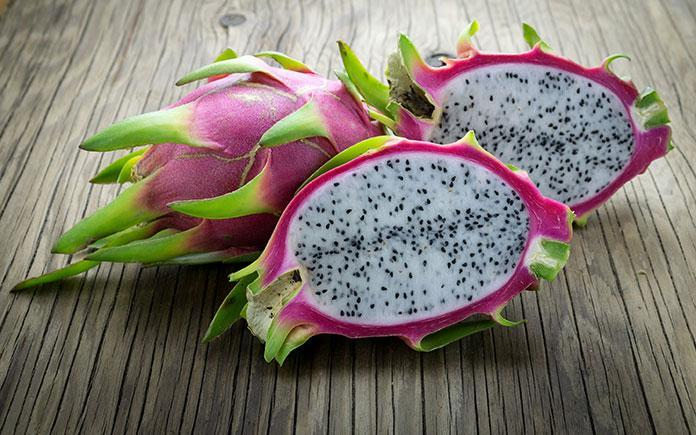dragon-fruit: (272, 139, 541, 341), (135, 65, 375, 250), (415, 51, 648, 219)
